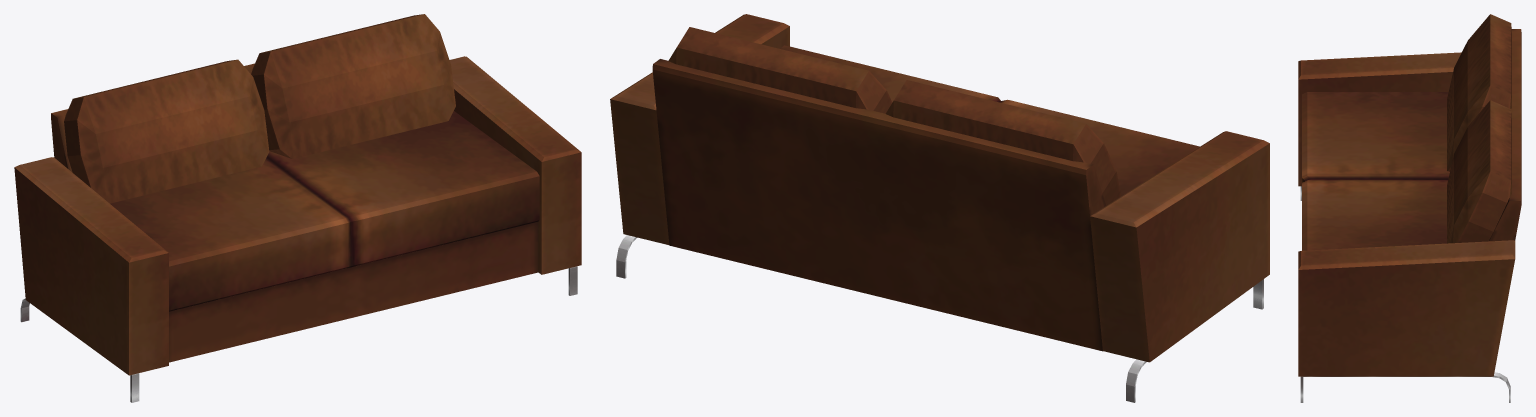
The model's file is Sofa1.fbx.
3 renders of one model, left to right at view 1: azimuth 30°, elevation 25°; view 2: azimuth 150°, elevation 25°; view 3: azimuth 270°, elevation 25°, orthographic. The views are drawn at different scales.
Parts seen in each view (by area): view 1: Empty_Mesh; view 2: Empty_Mesh; view 3: Empty_Mesh.
Boxes of the visible parts, box(x1,y1,x2,y2) form: Empty_Mesh: box(14, 14, 581, 402); Empty_Mesh: box(610, 14, 1269, 402); Empty_Mesh: box(1298, 14, 1521, 402).
Size of the model in its own units: 176 by 81.4 by 79.35.
